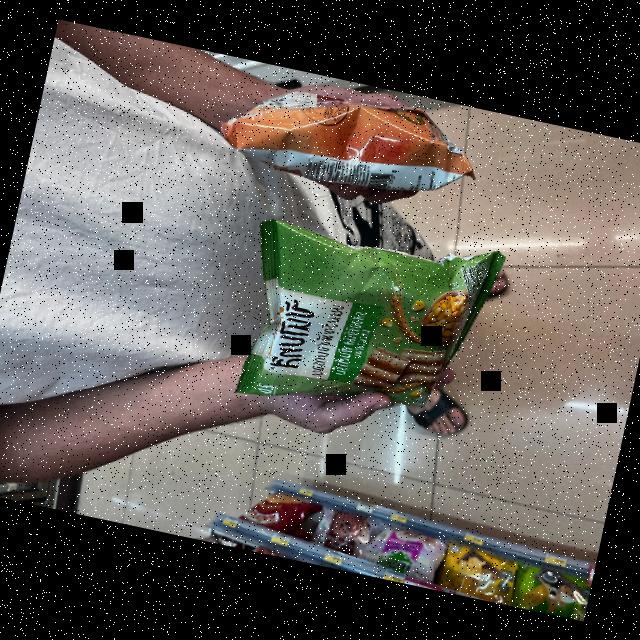snack_bag: (222, 192, 506, 440), (207, 64, 478, 226)
